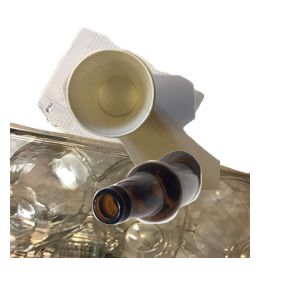glass: (90, 148, 300, 300)
paper: (35, 25, 232, 204)
plastic: (10, 120, 250, 300)
trash: (60, 47, 300, 227)
